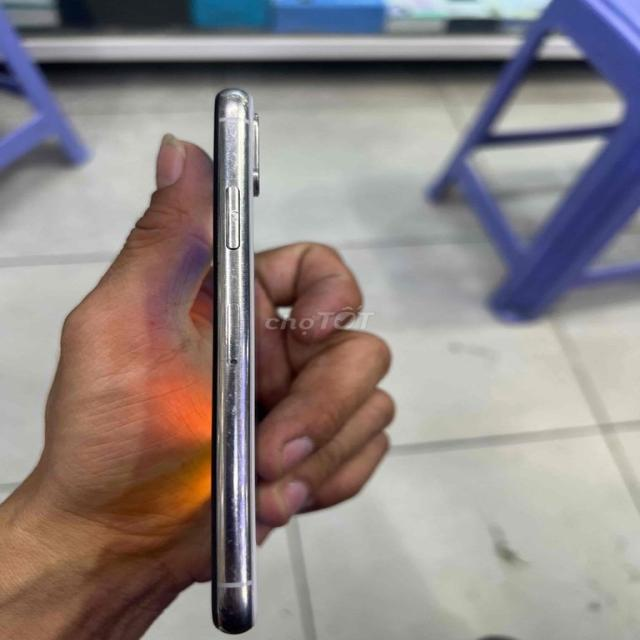gen_x_xs: (212, 89, 259, 633)
scratch: (212, 89, 258, 633)
